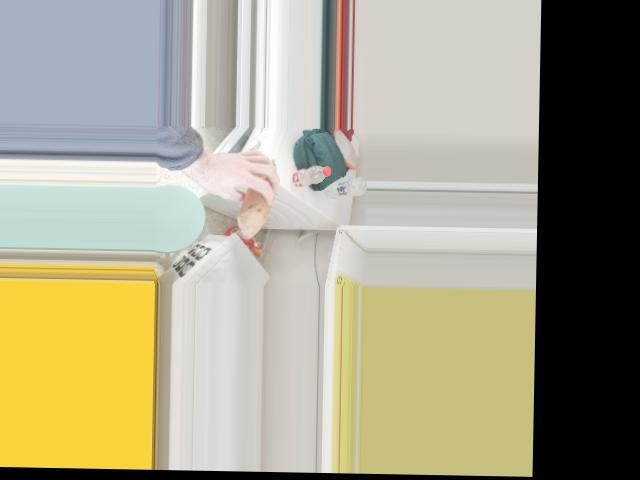sweet_potato: (239, 154, 278, 236)
